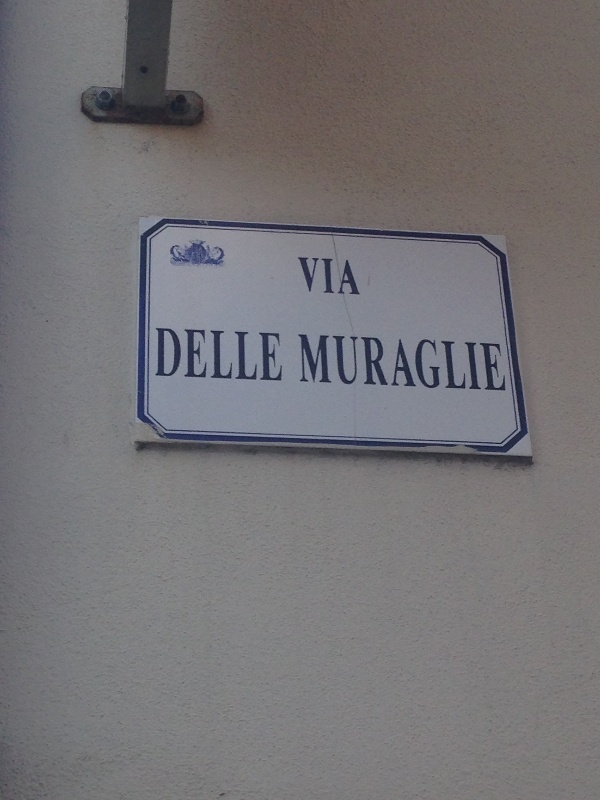text: (305, 335, 320, 393), (321, 335, 336, 393), (337, 335, 352, 393), (353, 335, 368, 393), (369, 335, 384, 393), (385, 335, 400, 393), (401, 335, 416, 393), (417, 335, 432, 393), (433, 335, 448, 393), (449, 335, 464, 393), (465, 335, 480, 393), (481, 335, 496, 393), (161, 328, 176, 382), (177, 328, 192, 382), (193, 328, 208, 382), (209, 328, 224, 382), (225, 328, 240, 382), (241, 328, 256, 382), (257, 328, 272, 382), (497, 335, 508, 393), (305, 257, 320, 295), (321, 257, 336, 295), (337, 257, 352, 295), (273, 328, 283, 382), (353, 257, 361, 295), (299, 335, 304, 393), (298, 257, 304, 295), (156, 328, 160, 382)
